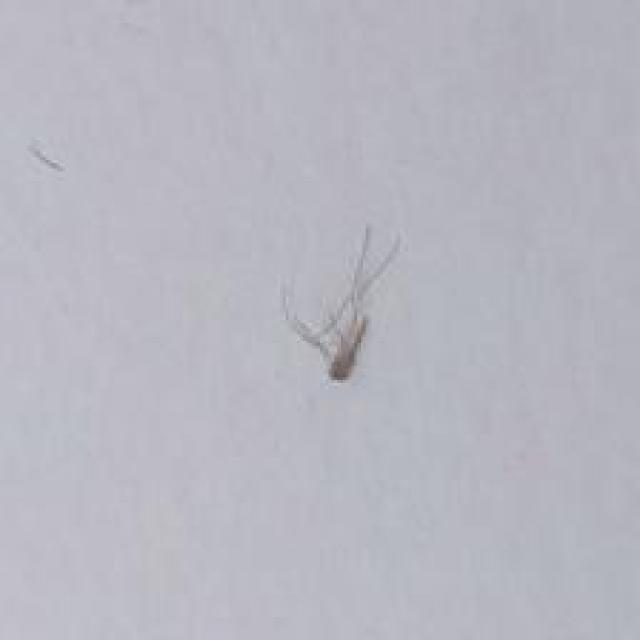Culex: (282, 222, 402, 382)
